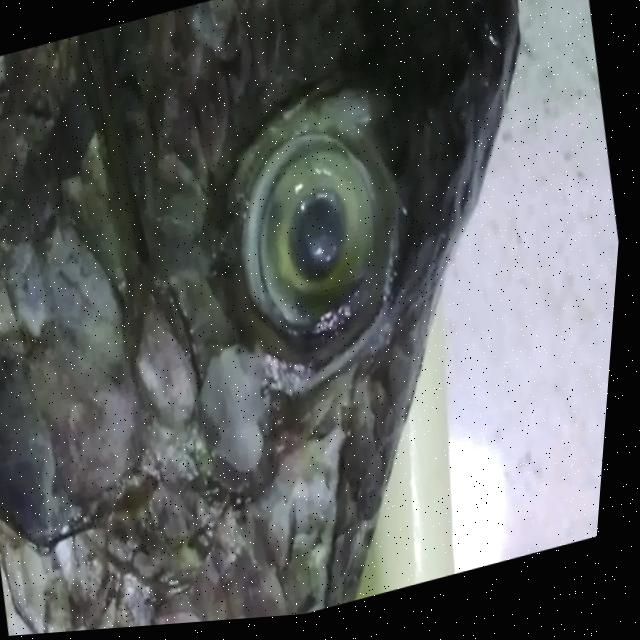Non-Fresh: (181, 72, 433, 379)
